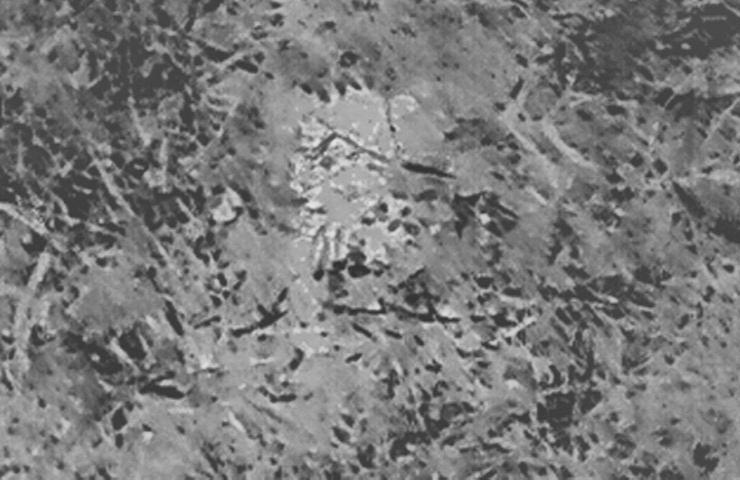landmines: (295, 85, 412, 251)
